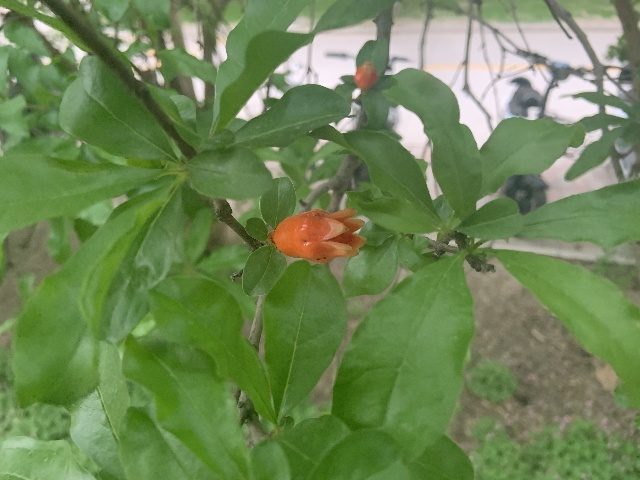bud: (354, 61, 377, 90)
flower: (270, 206, 367, 264)
